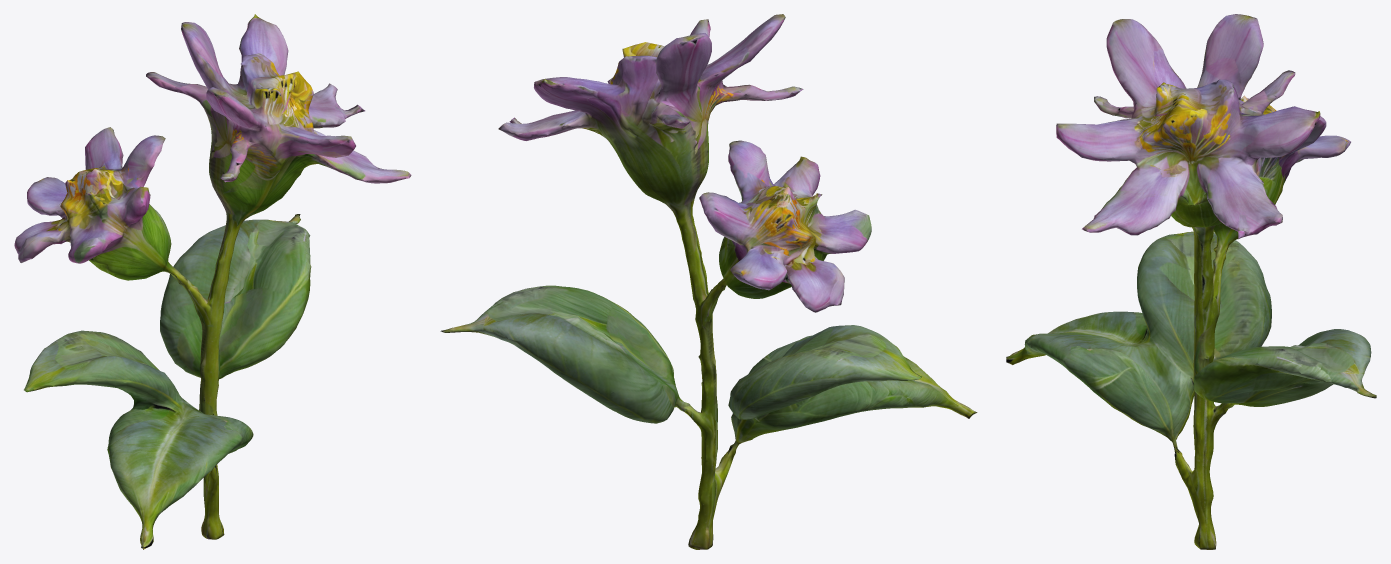
Rendered from Wild_Columbine.glb.
The picture shows the model from 3 angles, left to right: view 1: azimuth 30°, elevation 25°; view 2: azimuth 150°, elevation 25°; view 3: azimuth 270°, elevation 25°; orthographic projection. The views are drawn at different scales.
Bounding box in the file's own units: 0.9196 × 1.2 × 0.7653.
Materials: 1 (1 with a texture image).
